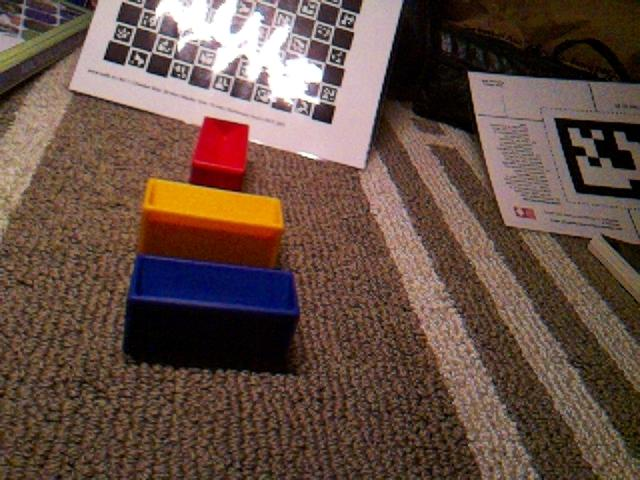blue: (121, 252, 301, 368)
red: (188, 115, 251, 191)
yellow: (136, 176, 286, 269)
